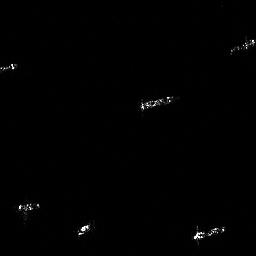ship: (136, 91, 179, 114), (188, 222, 230, 244), (14, 199, 44, 214), (74, 219, 95, 237)
